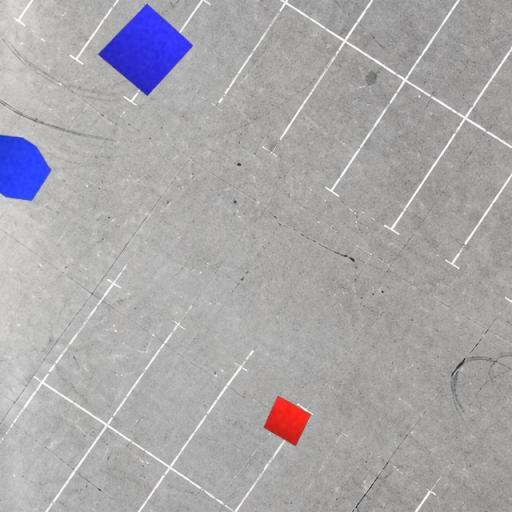BLUE_SQUARE: (97, 3, 194, 96)
RED_SQUARE: (263, 396, 311, 446)
